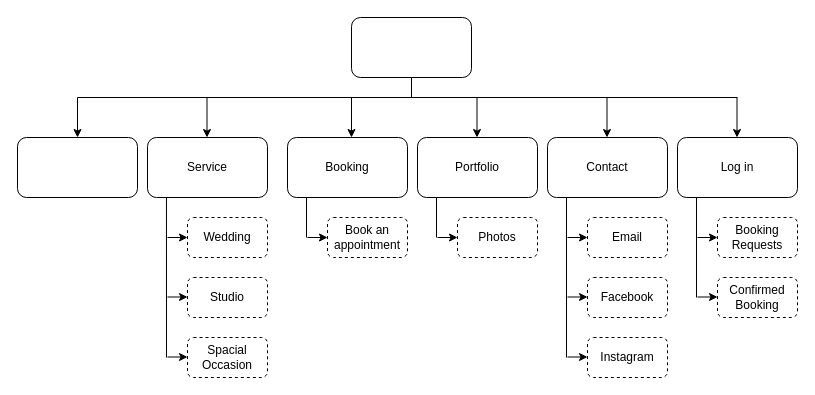
Some shapes in this 815 by 395 pixel diagram are drawn without their labels. The shapes that lost their labels are listed below. From the top down, each one's centre as x and y in pixels, then its label:
At [411,47]: "Home".
At [77,167]: "About".
